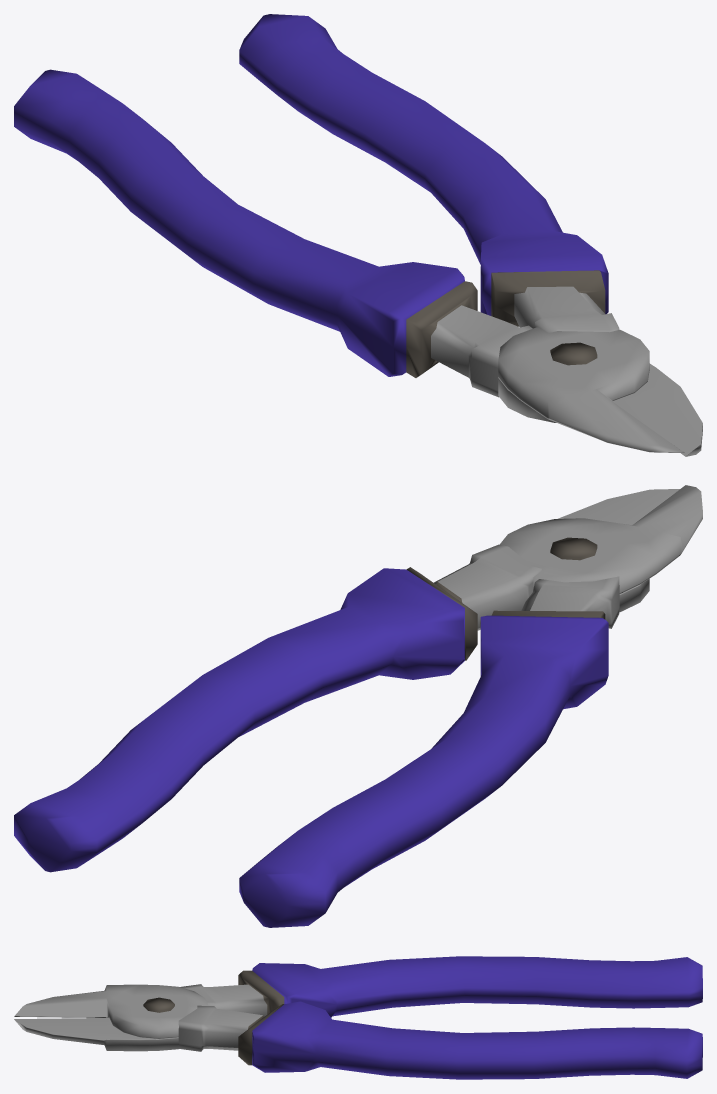
File: wirecutters.fbx
3 views of the same model, one above another, from view 1: azimuth 30°, elevation 25°; view 2: azimuth 150°, elevation 25°; view 3: azimuth 270°, elevation 25° (orthographic). The views are drawn at different scales.
Parts seen in each view (by area): view 1: Cube, Cube.001; view 2: Cube, Cube.001; view 3: Cube, Cube.001.
Part boxes in pixels (x1=…): Cube: x1=239, y1=14, x2=684, y2=453; Cube.001: x1=14, y1=69, x2=702, y2=456; Cube: x1=14, y1=485, x2=702, y2=872; Cube.001: x1=239, y1=489, x2=679, y2=927; Cube: x1=14, y1=984, x2=702, y2=1079; Cube.001: x1=14, y1=956, x2=702, y2=1051.
Size of the model in its own units: 8.49 by 1.71 by 24.68.
